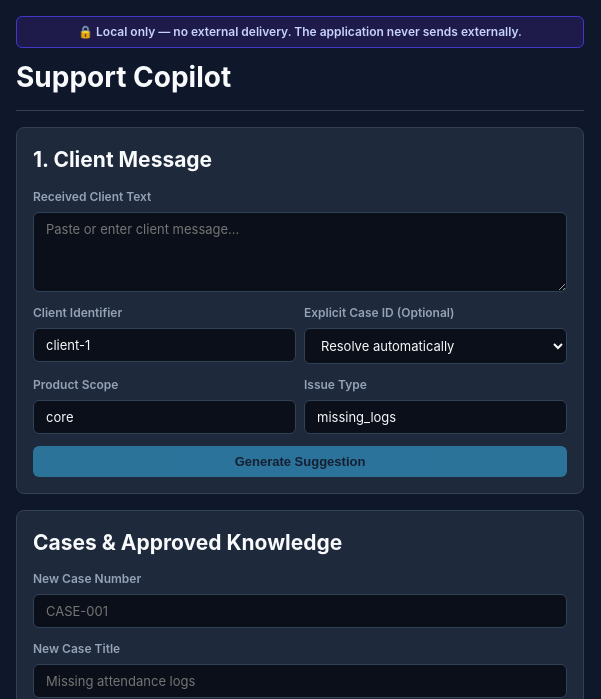
Test: Desktop Overlay App Component › handles provider timeout safely
This screenshot has width=601, height=699.
In the text box labelled "Received Client Text": (300,252) [33,212,567,292], type "Query"
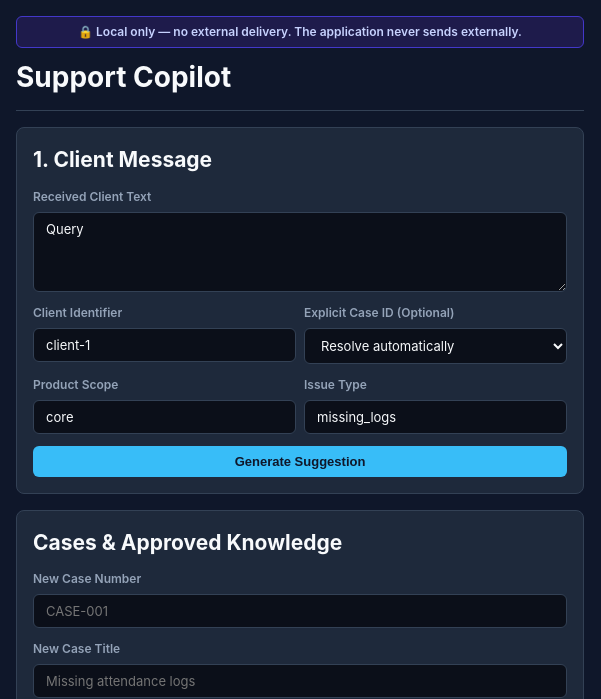
Click the button "Generate Suggestion": (300,461) [33,446,567,476]
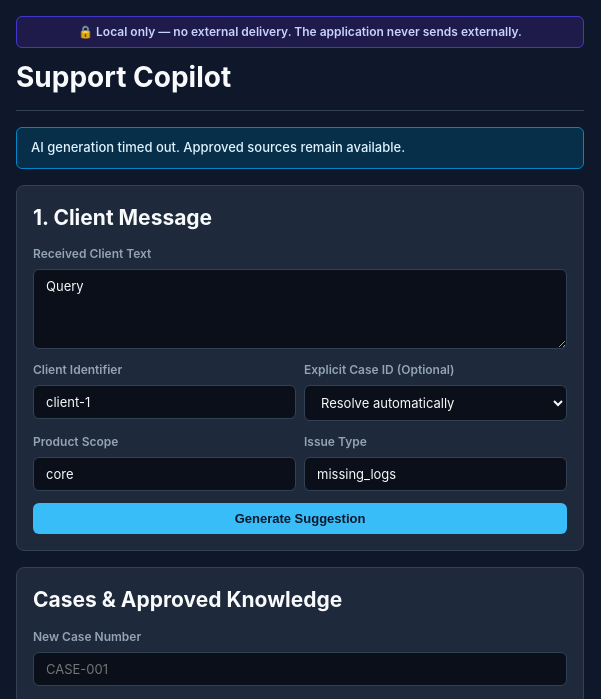
expect the text "AI generation timed out. Approved sources remain available." is shown: met, box [16,127,584,168]
